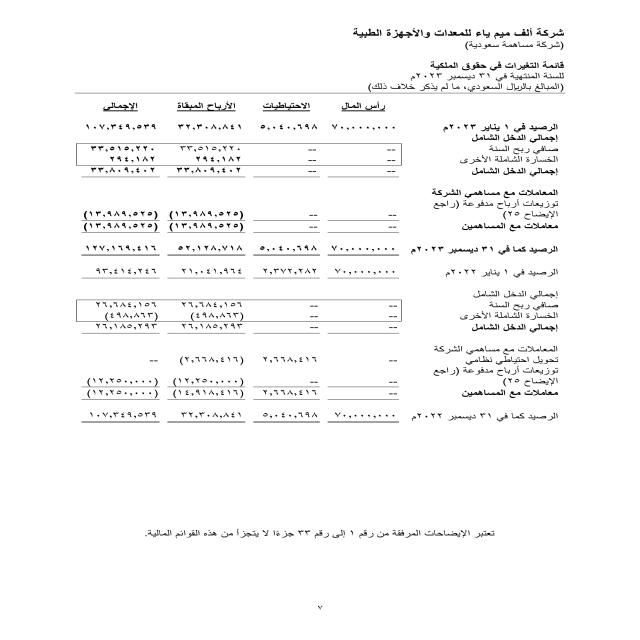financial_sheets: (418, 57, 575, 73)
table: (21, 96, 410, 436)
